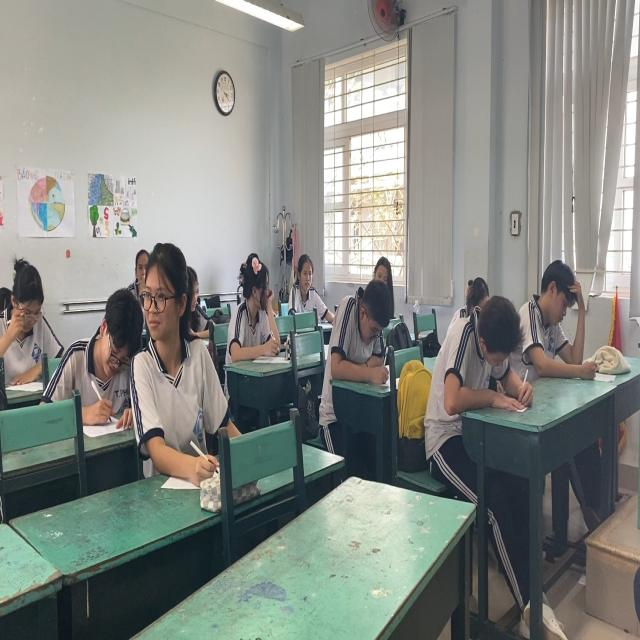cheating: (133, 228, 203, 476), (226, 252, 281, 372)
not_cheating: (440, 283, 526, 421), (70, 289, 140, 425), (524, 259, 599, 383), (0, 242, 63, 383), (327, 280, 395, 380), (290, 248, 329, 321)
